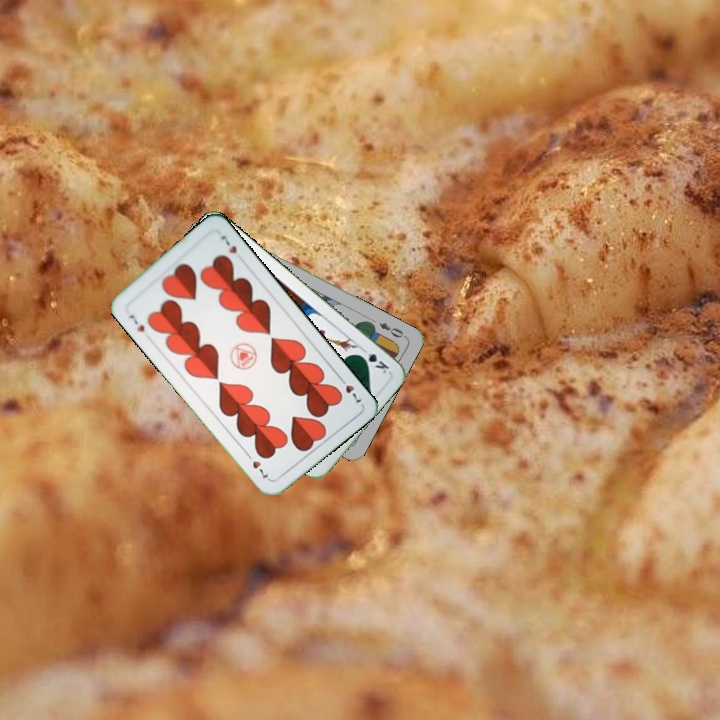EO: (375, 318, 409, 340)
GK: (355, 344, 391, 376)
H7: (334, 372, 365, 405), (125, 310, 147, 334)
